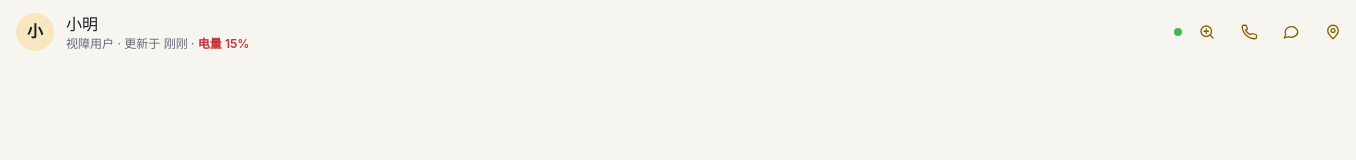
Scenario: SharingContactRow 共享位置联系人行（定位/呼叫/发消息） › 查看地址：带最近地标时附"最近地标X"（中式定位常靠地标转告）；与AOI重名则不重复
Click the button named "查看 小明 所在地址": {"x": 1207, "y": 32} [1190,15,1224,49]
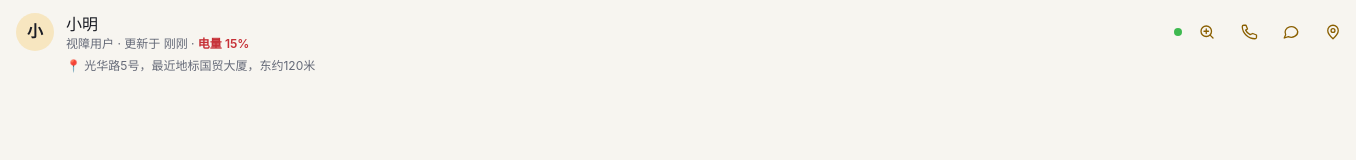
Result: the text "📍 光华路5号，最近地标国贸大厦，东约120米" is shown at [66,58,315,73]
